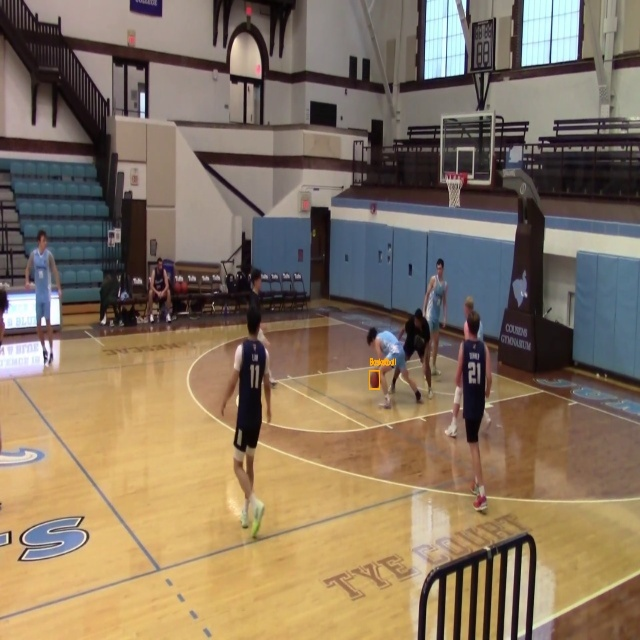Basketball: (370, 370, 380, 389)
